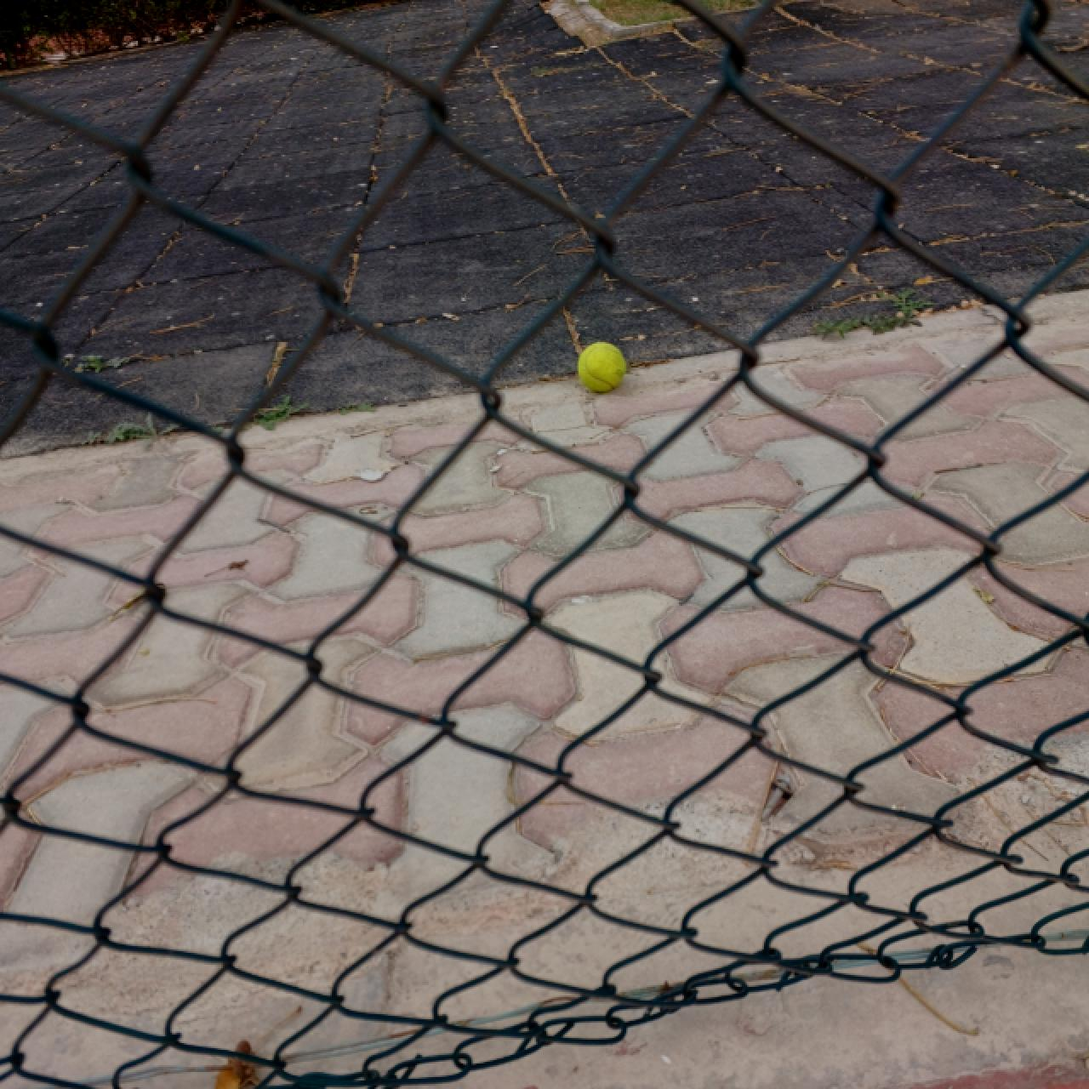tennis-ball: (576, 342, 627, 394)
